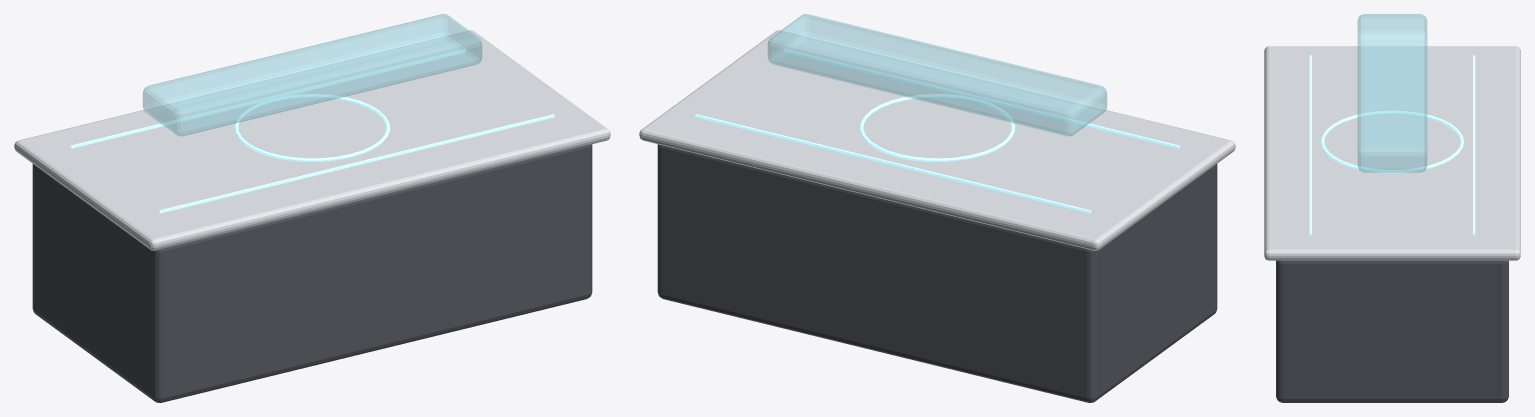
Rendered from holotable_ship_blueprint.glb.
The picture shows the model from 3 angles, left to right: view 1: azimuth 30°, elevation 25°; view 2: azimuth 150°, elevation 25°; view 3: azimuth 270°, elevation 25°; orthographic projection. The views are drawn at different scales.
Parts seen in each view (by area): view 1: GD_holotable_ship_blueprint__m0, GD_holotable_ship_blueprint__m1, GD_holotable_ship_blueprint__m2, GD_holotable_ship_blueprint__m3; view 2: GD_holotable_ship_blueprint__m0, GD_holotable_ship_blueprint__m1, GD_holotable_ship_blueprint__m2, GD_holotable_ship_blueprint__m3; view 3: GD_holotable_ship_blueprint__m1, GD_holotable_ship_blueprint__m0, GD_holotable_ship_blueprint__m2, GD_holotable_ship_blueprint__m3.
Part boxes in pixels (x1,y1,x2,y2): GD_holotable_ship_blueprint__m0: (32, 144, 592, 402); GD_holotable_ship_blueprint__m1: (14, 30, 610, 250); GD_holotable_ship_blueprint__m2: (142, 14, 482, 136); GD_holotable_ship_blueprint__m3: (70, 49, 554, 213); GD_holotable_ship_blueprint__m0: (657, 144, 1217, 402); GD_holotable_ship_blueprint__m1: (639, 30, 1235, 250); GD_holotable_ship_blueprint__m2: (767, 14, 1107, 136); GD_holotable_ship_blueprint__m3: (695, 49, 1179, 213); GD_holotable_ship_blueprint__m1: (1264, 46, 1520, 260); GD_holotable_ship_blueprint__m0: (1276, 260, 1508, 402); GD_holotable_ship_blueprint__m2: (1357, 14, 1427, 172); GD_holotable_ship_blueprint__m3: (1309, 55, 1475, 234).
Bounding box in the file's own units: 2.1 × 1.07 × 1.1.
